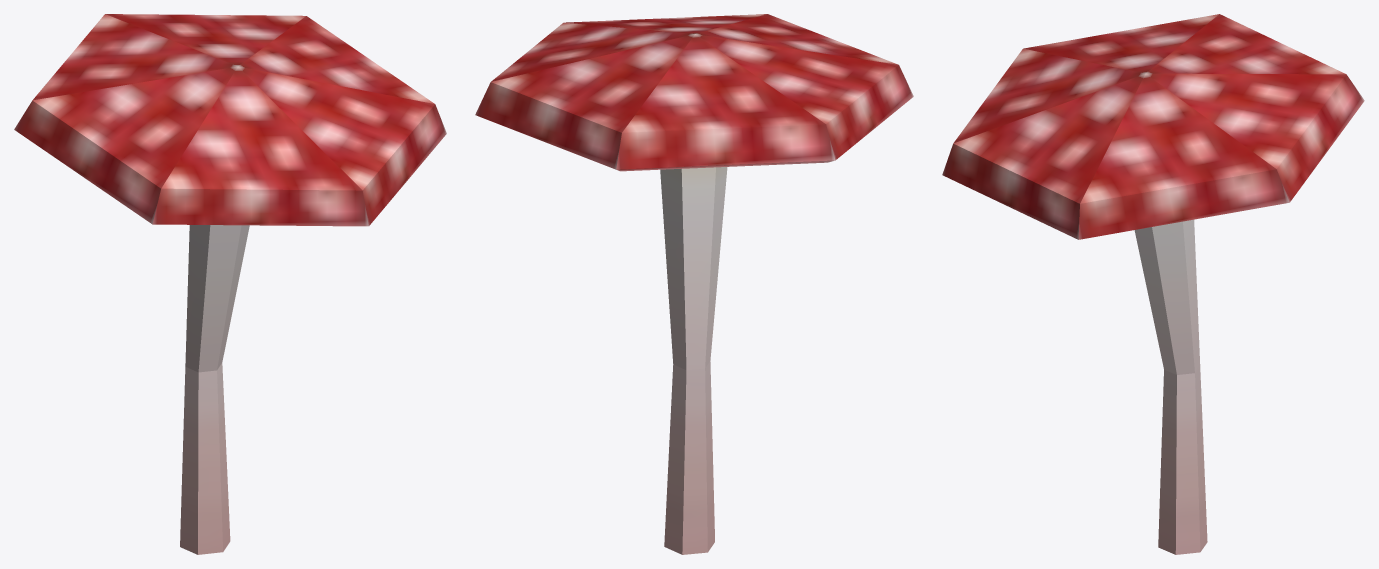
Rendered from colony-mushroom-art.glb.
3 renders of one model, left to right at view 1: azimuth 30°, elevation 25°; view 2: azimuth 150°, elevation 25°; view 3: azimuth 270°, elevation 25°, orthographic. The views are drawn at different scales.
Visible parts, largest first — view 1: Colony_Mushroom_Art; view 2: Colony_Mushroom_Art; view 3: Colony_Mushroom_Art.
Boxes of the visible parts, box(x1,y1,x2,y2) form: Colony_Mushroom_Art: box(14, 14, 446, 554); Colony_Mushroom_Art: box(475, 14, 913, 554); Colony_Mushroom_Art: box(942, 14, 1364, 554).
Size of the model in its own units: 0.7122 by 0.9335 by 0.748.
1 material, 1 textured.
